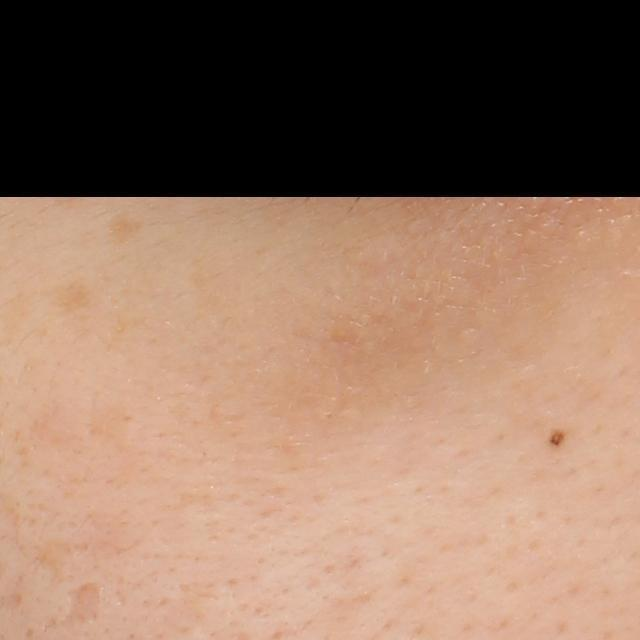atrophic_scar: (40, 576, 105, 636)
melasma: (35, 274, 98, 317), (100, 211, 148, 250)
nevus: (547, 426, 569, 450)
